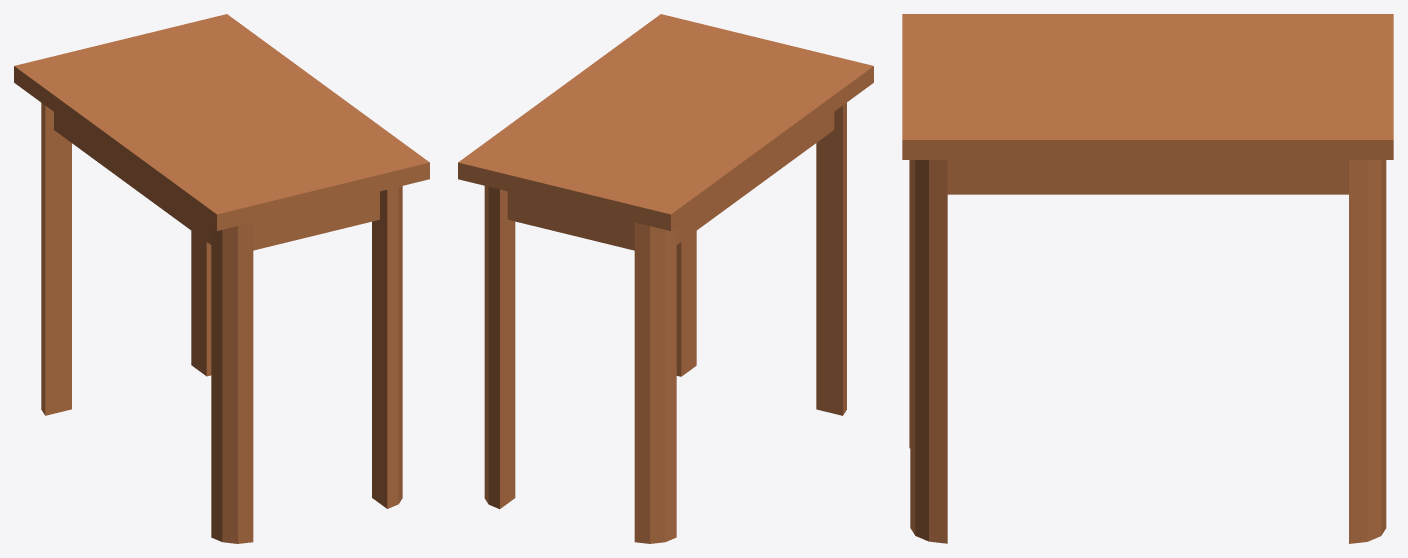
File: 2021-07-06_table.fbx
The picture shows the model from 3 angles, left to right: view 1: azimuth 30°, elevation 25°; view 2: azimuth 150°, elevation 25°; view 3: azimuth 270°, elevation 25°; orthographic projection. The views are drawn at different scales.
Parts seen in each view (by area): view 1: Top, Leg 2, Leg 1, Leg 3, Leg 4; view 2: Top, Leg 3, Leg 4, Leg 2, Leg 1; view 3: Top, Leg 4, Leg 1.
Part boxes in pixels (box(x1,y1,x2,y2)): Top: box(14, 14, 429, 250); Leg 2: box(211, 222, 253, 543); Leg 1: box(372, 186, 402, 508); Leg 3: box(41, 103, 71, 415); Leg 4: box(191, 231, 211, 376); Top: box(458, 14, 873, 250); Leg 3: box(634, 222, 676, 543); Leg 4: box(484, 186, 515, 509); Leg 2: box(816, 102, 846, 415); Leg 1: box(676, 231, 696, 376); Top: box(902, 14, 1393, 194); Leg 4: box(1349, 160, 1386, 543); Leg 1: box(910, 160, 947, 543).
Bounding box in the file's own units: 50.8 × 77.39 × 83.82.
